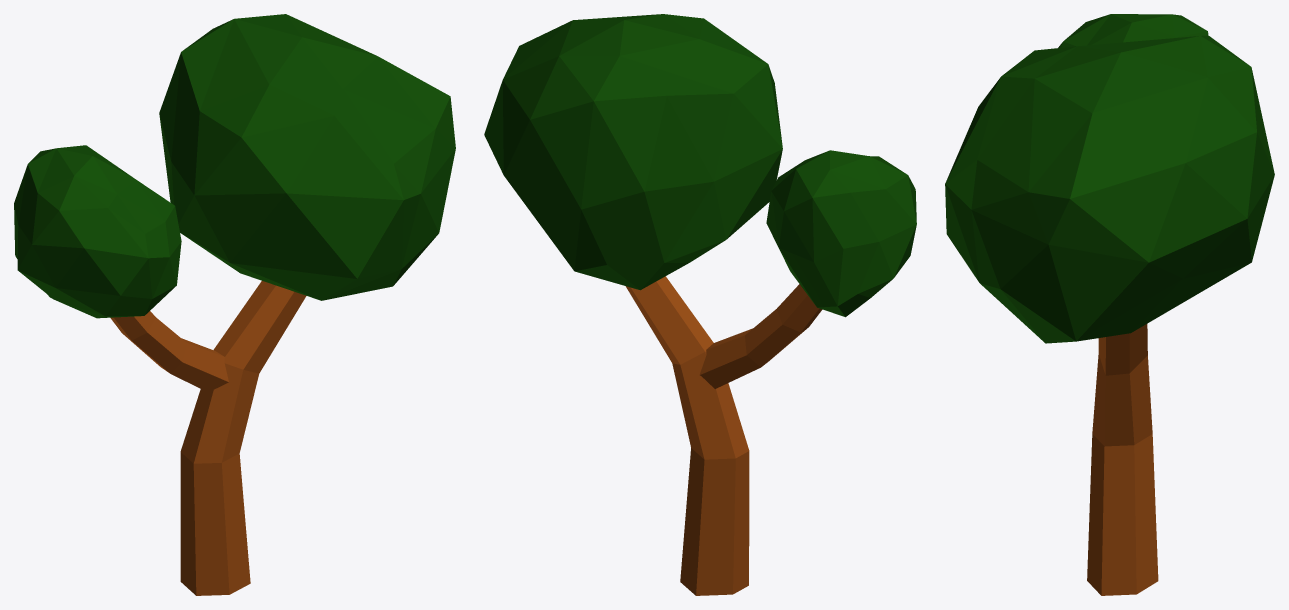
File: Oak3.fbx
3 renders of one model, left to right at view 1: azimuth 30°, elevation 25°; view 2: azimuth 150°, elevation 25°; view 3: azimuth 270°, elevation 25°, orthographic. The views are drawn at different scales.
Visible parts, largest first — view 1: Oak3; view 2: Oak3; view 3: Oak3.
Part boxes in pixels (x1,y1,x2,y2): Oak3: (14, 14, 455, 595); Oak3: (484, 14, 916, 595); Oak3: (945, 14, 1274, 595).
Bounding box in the file's own units: 585 × 731 × 379.
